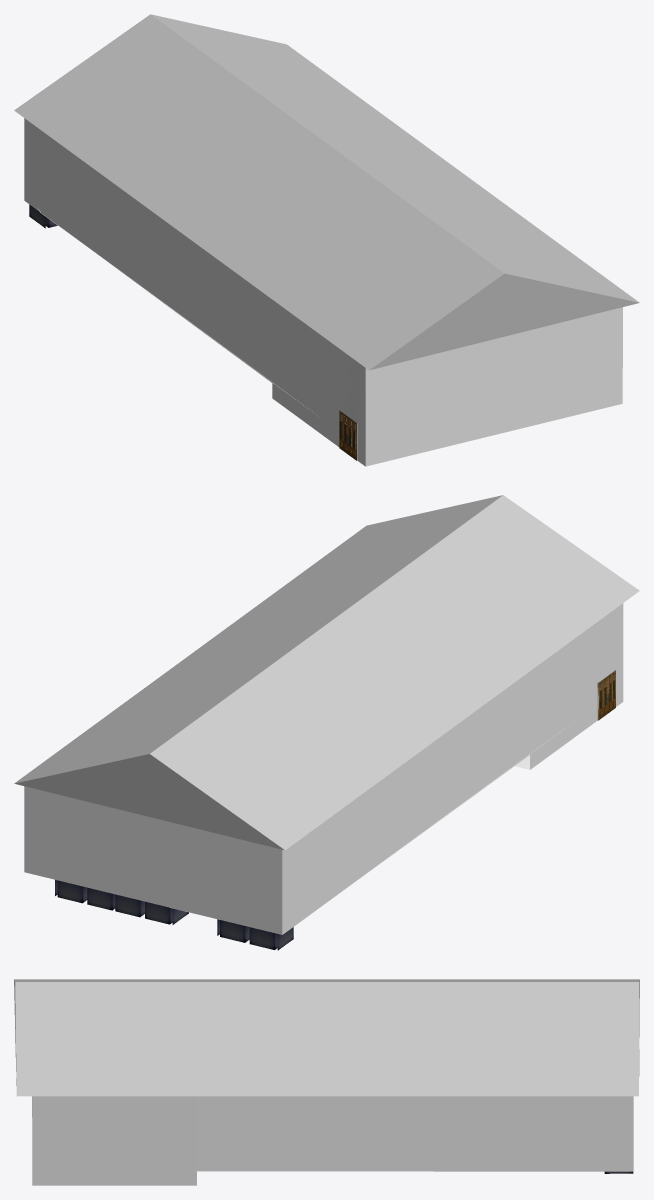
Rendered from NewRoomMap2fbx.fbx.
The picture shows the model from 3 angles, top to bottom: view 1: azimuth 30°, elevation 25°; view 2: azimuth 150°, elevation 25°; view 3: azimuth 270°, elevation 25°; orthographic projection. The views are drawn at different scales.
Parts seen in each view (by area): view 1: Empty_Mesh; view 2: Empty_Mesh; view 3: Empty_Mesh.
Part boxes in pixels (left/top/right/bottom): Empty_Mesh: left=14, top=14, right=639, bottom=466; Empty_Mesh: left=14, top=495, right=639, bottom=950; Empty_Mesh: left=14, top=979, right=639, bottom=1185.
Bounding box in the file's own units: 1758 × 1047 × 3972.
